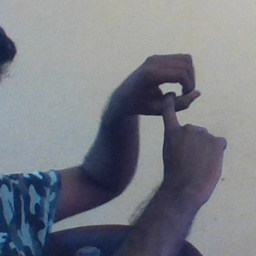Q: (111, 41, 234, 193)
